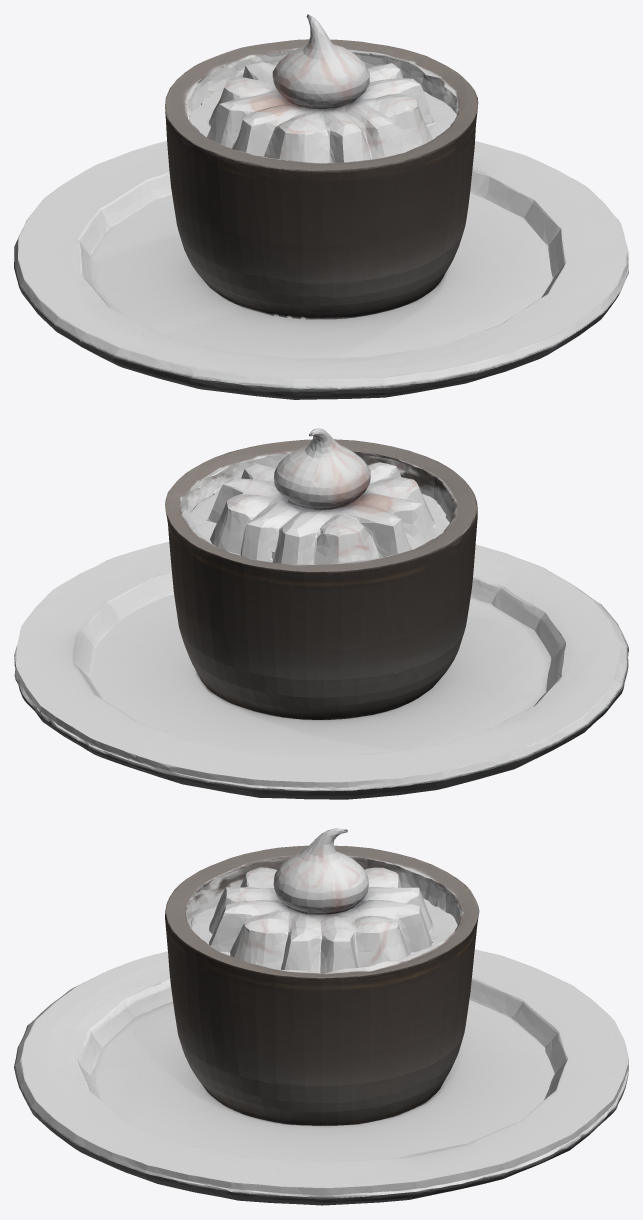
File: after.glb
The picture shows the model from 3 angles, top to bottom: view 1: azimuth 30°, elevation 25°; view 2: azimuth 150°, elevation 25°; view 3: azimuth 270°, elevation 25°; orthographic projection.
Parts seen in each view (by area): view 1: world; view 2: world; view 3: world.
Boxes of the visible parts, x1,y1,x2,y2 form: world: (14, 14, 628, 399); world: (14, 428, 628, 799); world: (14, 828, 628, 1205).
Bounding box in the file's own units: 0.9999 × 0.4761 × 0.9997.
Materials: 1 (1 with a texture image).
